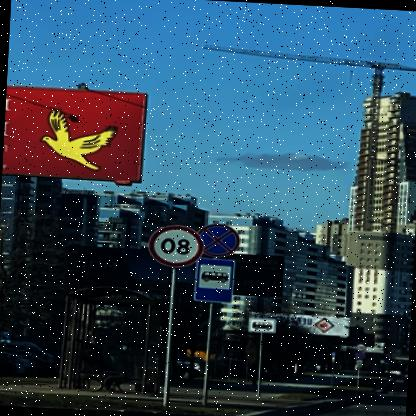speedlimit: (149, 222, 207, 268)
